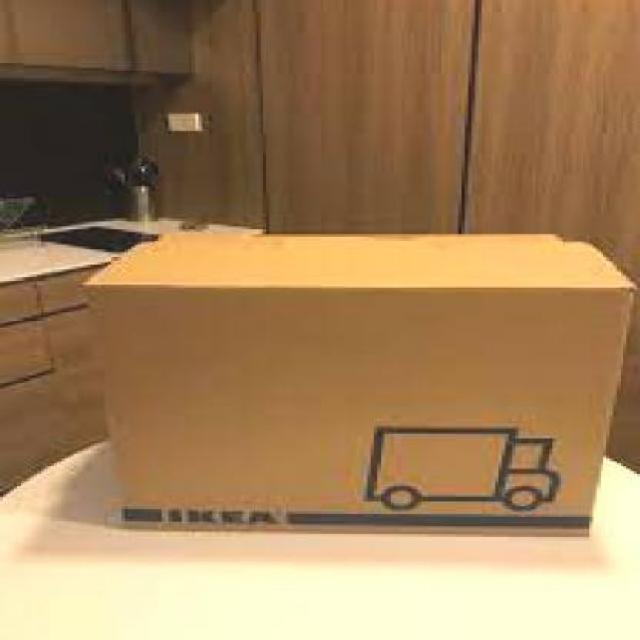-: (87, 234, 640, 533)
